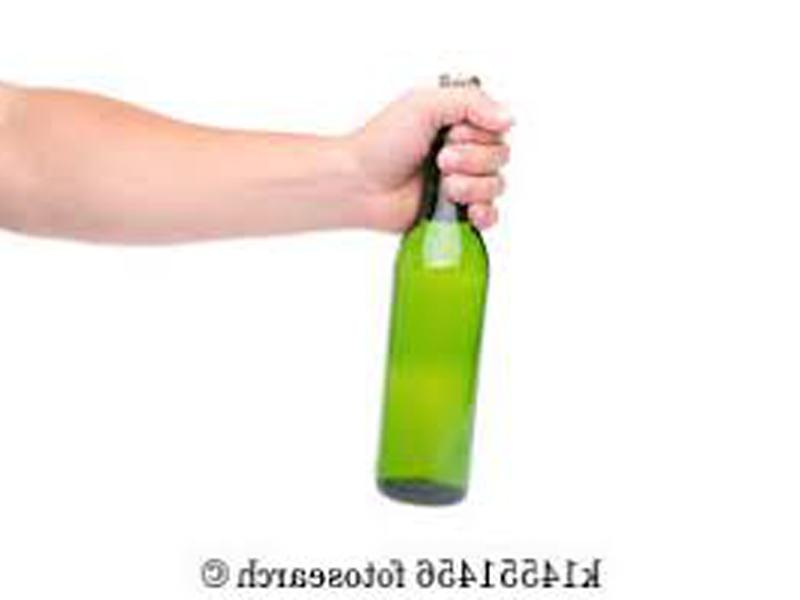Beer: (373, 76, 488, 505)
